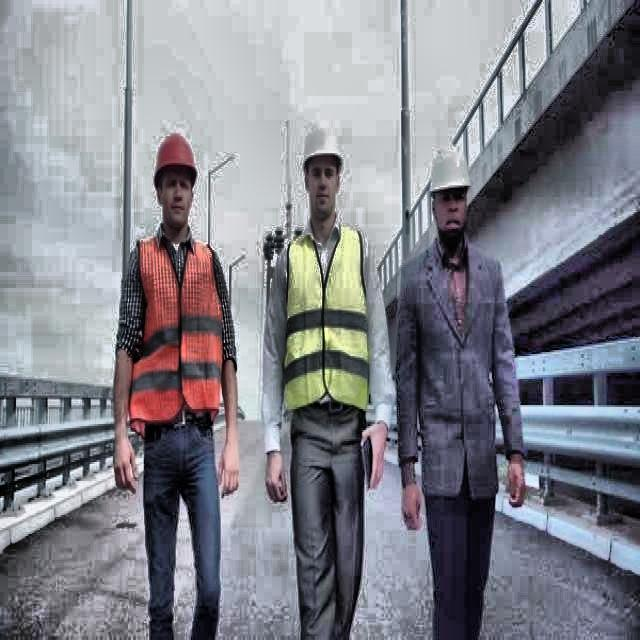person: (259, 121, 399, 640), (108, 129, 244, 640), (400, 138, 531, 640)
